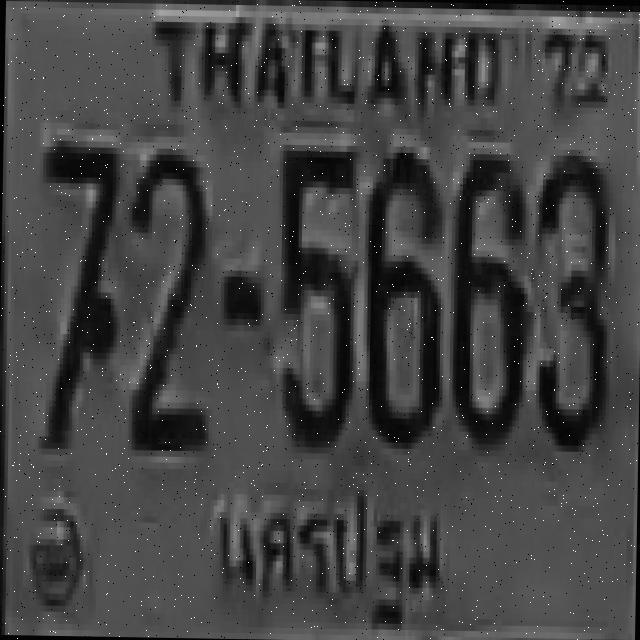2: (126, 142, 208, 445)
3: (531, 149, 610, 446)
5: (274, 142, 354, 444)
6: (361, 146, 440, 443), (448, 148, 526, 444)
7: (34, 134, 116, 443)
NakhonPathom: (208, 468, 450, 629)
